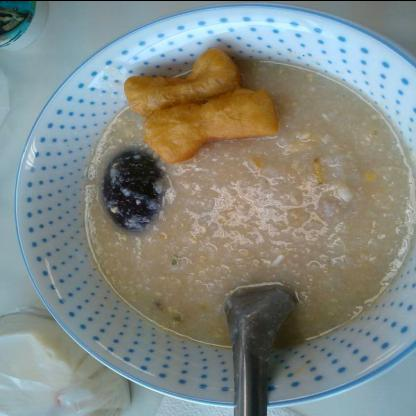Joke: (68, 58, 404, 394)
